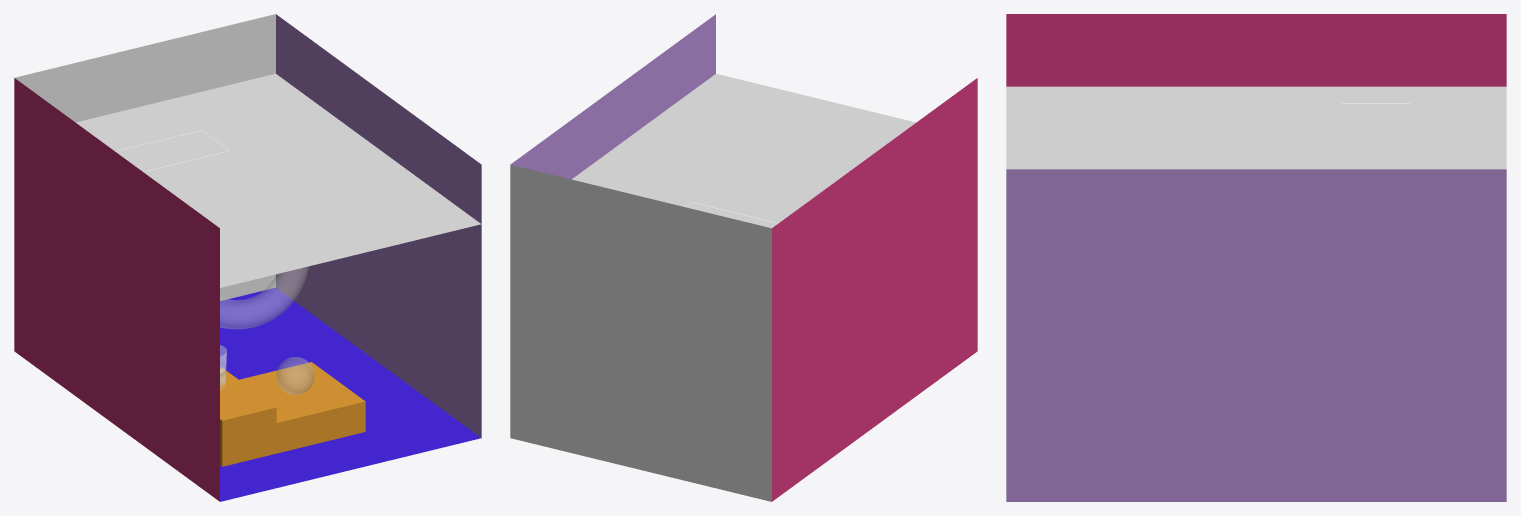
Rendered from testroom.glb.
3 renders of one model, left to right at view 1: azimuth 30°, elevation 25°; view 2: azimuth 150°, elevation 25°; view 3: azimuth 270°, elevation 25°, orthographic. The views are drawn at different scales.
Parts seen in each view (by area): view 1: Left, Ceiling, Right, Floor, Back, Stool, Torus, Sphere; view 2: Back, Left, Ceiling, Right; view 3: Right, Ceiling, Left.
Part boxes in pixels (left/top/right/bottom): Left: left=14, top=78, right=219, bottom=501; Ceiling: left=76, top=73, right=480, bottom=287; Right: left=276, top=14, right=481, bottom=437; Floor: left=220, top=287, right=481, bottom=501; Back: left=14, top=14, right=275, bottom=300; Stool: left=220, top=362, right=365, bottom=466; Torus: left=220, top=266, right=308, bottom=328; Sphere: left=276, top=357, right=314, bottom=394; Back: left=510, top=164, right=771, bottom=501; Left: left=772, top=78, right=977, bottom=501; Ceiling: left=572, top=73, right=915, bottom=228; Right: left=511, top=14, right=715, bottom=179; Right: left=1006, top=169, right=1506, bottom=501; Ceiling: left=1006, top=86, right=1506, bottom=169; Left: left=1006, top=14, right=1506, bottom=86.
Size of the model in its own units: 2.09 by 2.25 by 2.85.
